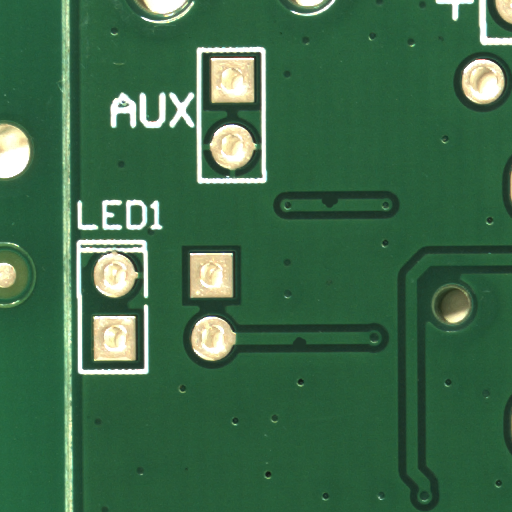Mouse_bite: (331, 202, 349, 213), (299, 342, 314, 352)
